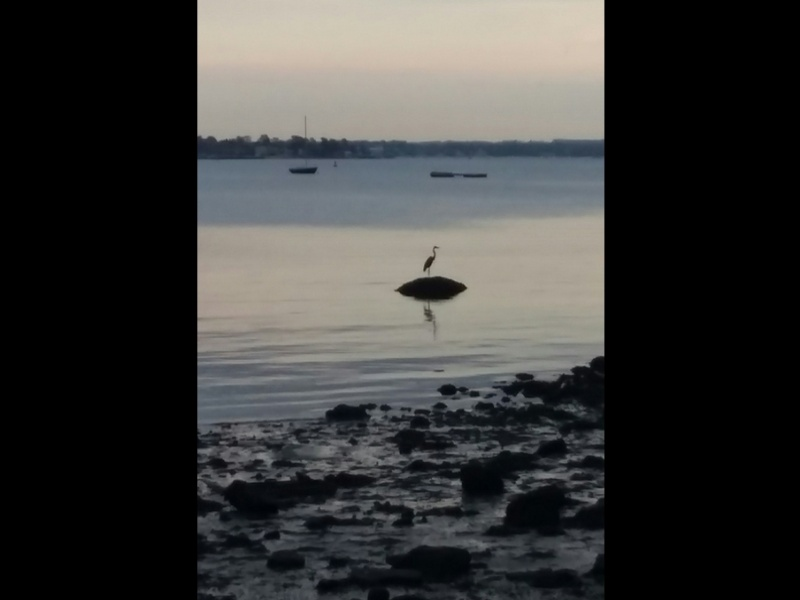heron: (421, 244, 440, 280)
